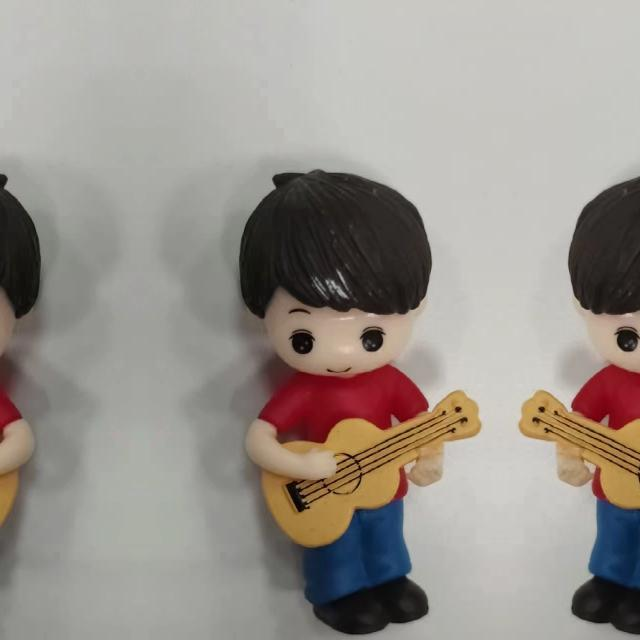man cloth: (258, 368, 434, 508), (565, 368, 640, 508), (0, 368, 22, 508)
man head: (236, 162, 434, 384), (565, 161, 640, 384), (0, 161, 44, 384)
trousers: (292, 496, 440, 634), (560, 496, 640, 633)
